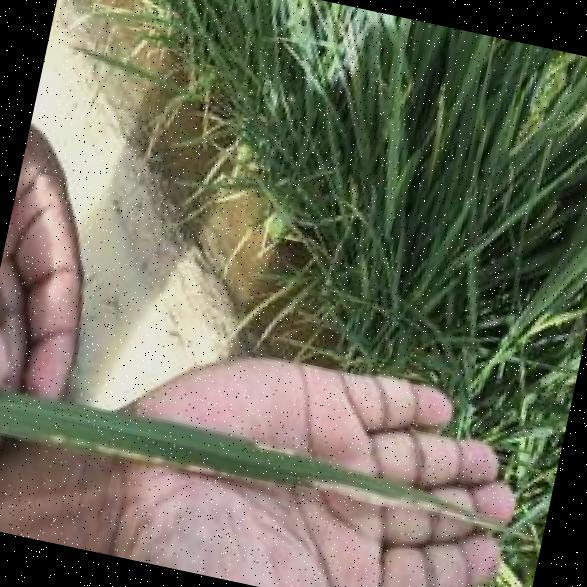Bacteria_Leaf_Blight: (79, 392, 536, 572)
